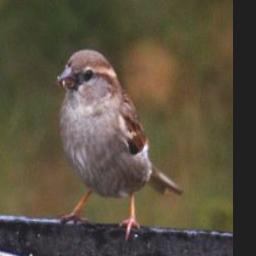Sparrow: (53, 46, 183, 244)
